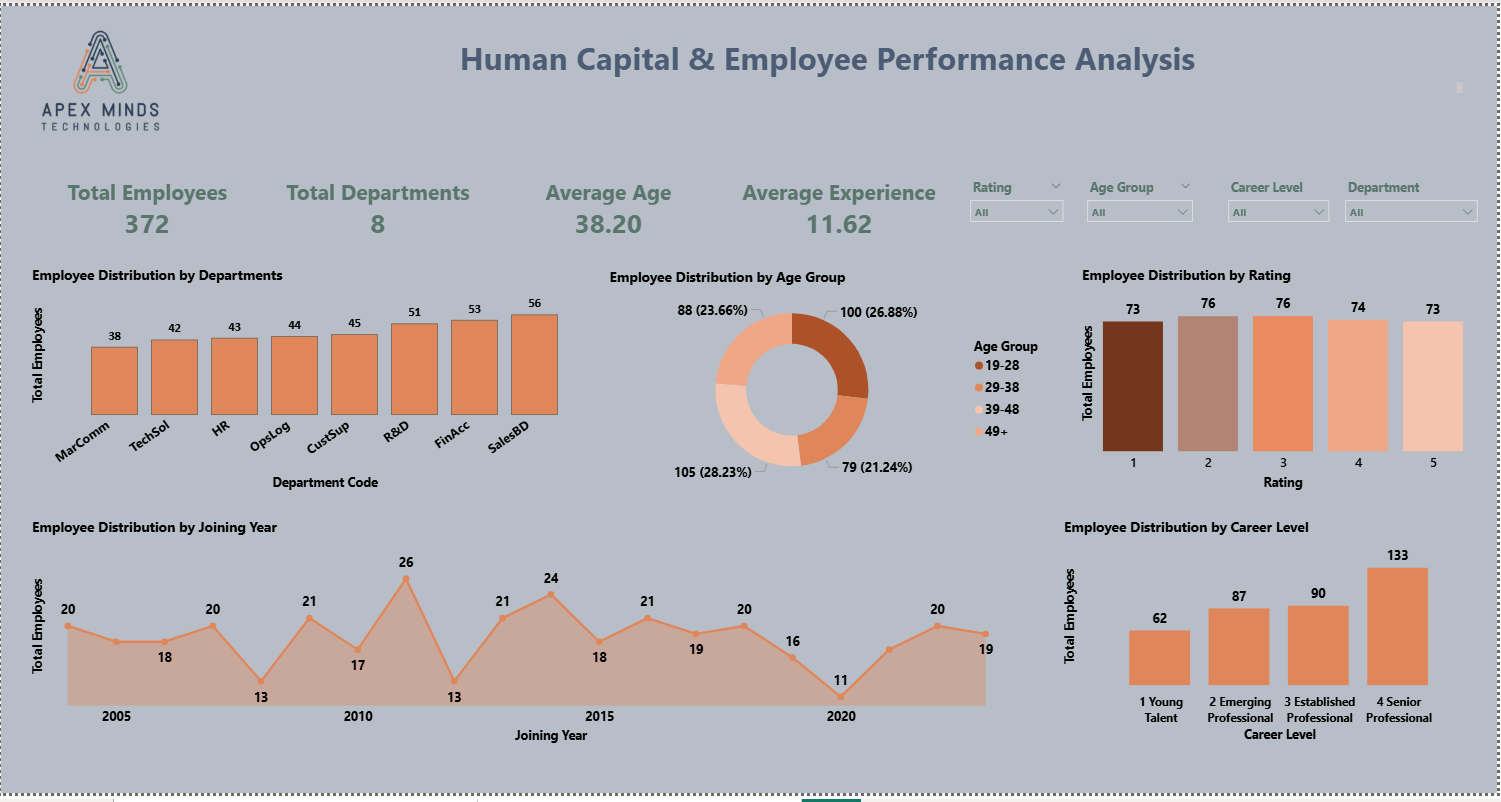

The dashboard page shown, as its layout file describes it:
{"tool":"powerbi","page":{"name":"Headcount & Distribution Dashboard","canvas":[1900,1000],"ordinal":0},"visuals":[{"type":"cardVisual","fields":{"Data":["Employee Details.Total Employees","Count(Employee Details.Department)","Employee Details.Average Age","Employee Details.Average Experience"]},"box":[34,204,1182,106],"z":0},{"type":"slicer","fields":{"Values":["Employee Details.Department"]},"box":[1698,214,188,78],"z":1000},{"type":"clusteredColumnChart","title":"Employee Distribution by Departments","fields":{"Category":["Employee Details.Department Code"],"Y":["Employee Details.Total Employees"]},"box":[34,330,710,290],"z":2000},{"type":"donutChart","title":"Employee Distribution by Age Group","fields":{"Category":["Employee Details.Age Group"],"Y":["Employee Details.Total Employees"]},"box":[768,332,578,288],"z":3000},{"type":"slicer","fields":{"Values":["Employee Details.Age Group"]},"box":[1370,214,154,76],"z":4000},{"type":"areaChart","title":"Employee Distribution by Joining Year","fields":{"Category":["Employee Details.Joining Year"],"Y":["Employee Details.Total Employees"]},"box":[34,650,1302,292],"z":5000},{"type":"clusteredColumnChart","title":"Employee Distribution by Rating","fields":{"Category":["Employee Details.Department","Employee Details.Rating"],"Y":["Employee Details.Total Employees"]},"box":[1368,330,494,290],"z":6000},{"type":"clusteredColumnChart","title":"Employee Distribution by Career Level","fields":{"Category":["Employee Details.Career Level Hierarchy","Employee Details.Career Level"],"Y":["Employee Details.Total Employees"]},"box":[1346,650,516,290],"z":7000},{"type":"slicer","fields":{"Values":["Employee Details.Career Level"]},"box":[1550,214,148,76],"z":8000},{"type":"slicer","fields":{"Values":["Employee Details.Rating"]},"box":[1222,214,138,76],"z":9000},{"type":"image","box":[13.3,0,225,190],"z":10000},{"type":"textbox","title":"Human Capital & Employee Performance Analysis","box":[238,38,1624,78],"z":11000}]}

Visuals, with their boxes in screenshot pixels (x1, y1, x2, y2), scaled from the page's 1900x1000 canvas onto the 1501x802 screenshot:
cardVisual - Employee Details.Total Employees x Count(Employee Details.Department): [left=27, top=164, right=961, bottom=249]
slicer - Employee Details.Department: [left=1341, top=172, right=1490, bottom=234]
"Employee Distribution by Departments" clusteredColumnChart: [left=27, top=265, right=588, bottom=497]
"Employee Distribution by Age Group" donutChart: [left=607, top=266, right=1063, bottom=497]
slicer - Employee Details.Age Group: [left=1082, top=172, right=1204, bottom=233]
"Employee Distribution by Joining Year" areaChart: [left=27, top=521, right=1055, bottom=755]
"Employee Distribution by Rating" clusteredColumnChart: [left=1081, top=265, right=1471, bottom=497]
"Employee Distribution by Career Level" clusteredColumnChart: [left=1063, top=521, right=1471, bottom=754]
slicer - Employee Details.Career Level: [left=1224, top=172, right=1341, bottom=233]
slicer - Employee Details.Rating: [left=965, top=172, right=1074, bottom=233]
image: [left=11, top=0, right=188, bottom=152]
"Human Capital & Employee Performance Analysis" textbox: [left=188, top=30, right=1471, bottom=93]
